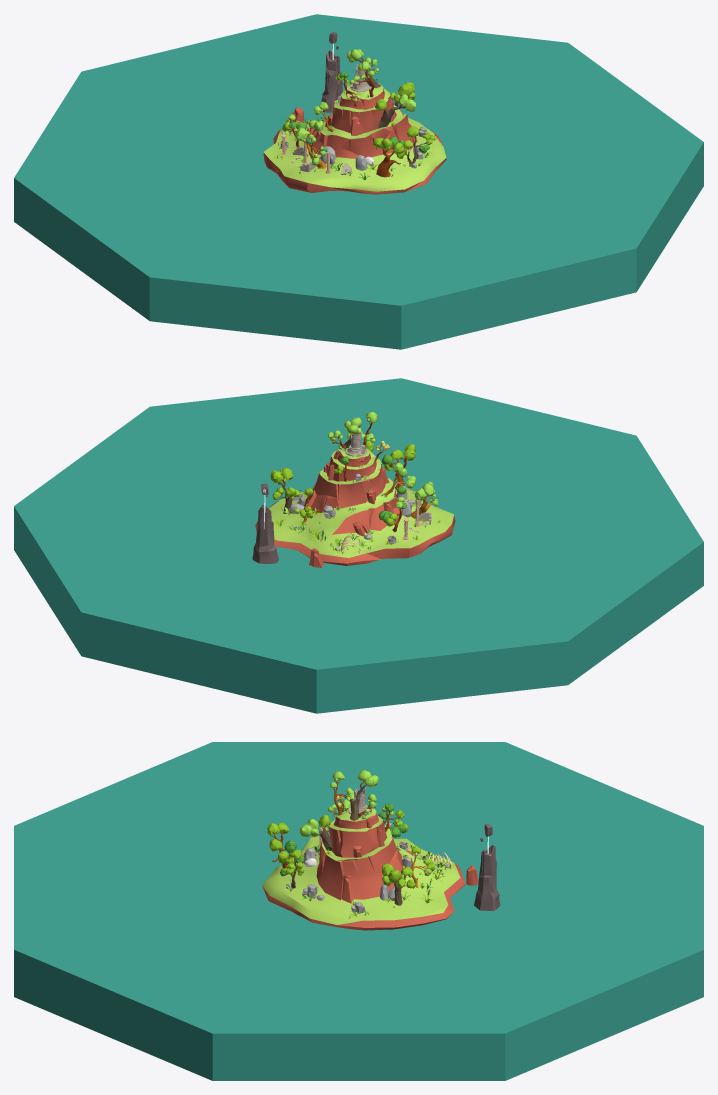
The model's file is island.gltf.
3 renders of one model, top to bottom at view 1: azimuth 30°, elevation 25°; view 2: azimuth 150°, elevation 25°; view 3: azimuth 270°, elevation 25°, orthographic. The views are drawn at different scales.
Visible parts, largest first — view 1: yet_111, Plane.014_108, Cylinder.009_94; view 2: yet_111, Plane.014_108, Cylinder.009_94; view 3: yet_111, Plane.014_108, Cylinder.009_94.
Boxes of the visible parts, bbox=[...] form: yet_111: bbox=[14, 14, 703, 349]; Plane.014_108: bbox=[263, 83, 446, 194]; Cylinder.009_94: bbox=[321, 50, 342, 112]; yet_111: bbox=[14, 378, 703, 713]; Plane.014_108: bbox=[255, 446, 455, 565]; Cylinder.009_94: bbox=[252, 505, 278, 563]; yet_111: bbox=[14, 742, 703, 1080]; Plane.014_108: bbox=[262, 808, 465, 930]; Cylinder.009_94: bbox=[474, 845, 500, 910].
Size of the model in its own units: 479 by 126 by 479.
